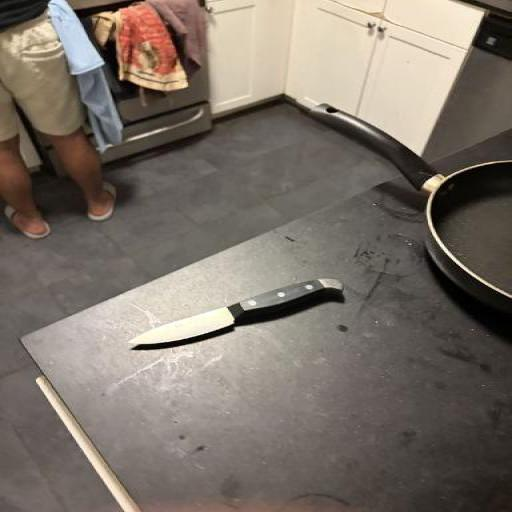Pan: (306, 81, 512, 337)
knife: (129, 272, 387, 381)
